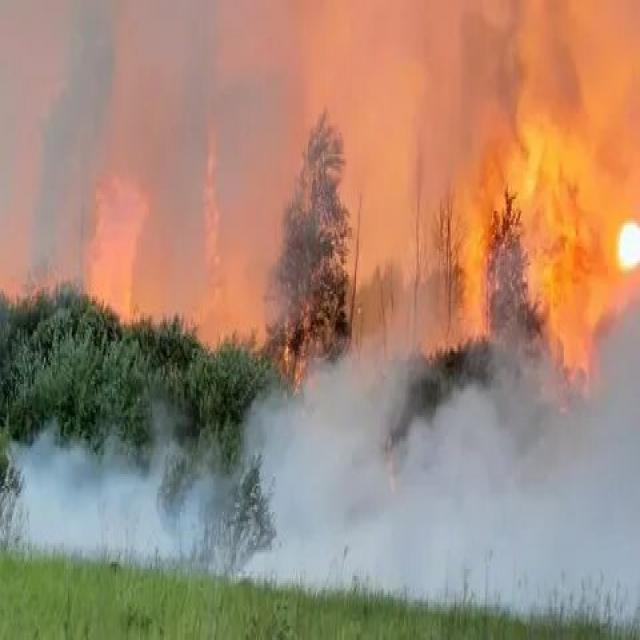Fire: (594, 169, 640, 315)
Smoke: (0, 371, 640, 625)
